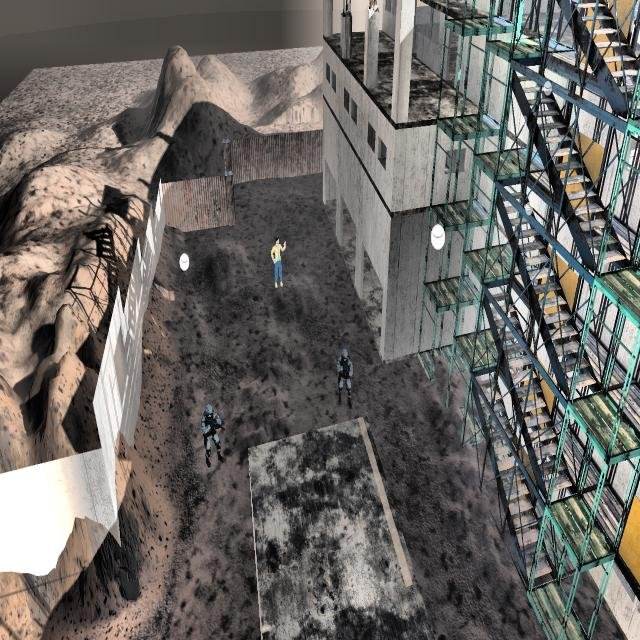bad: (331, 336, 358, 424), (198, 397, 225, 471)
good: (264, 227, 290, 294)
